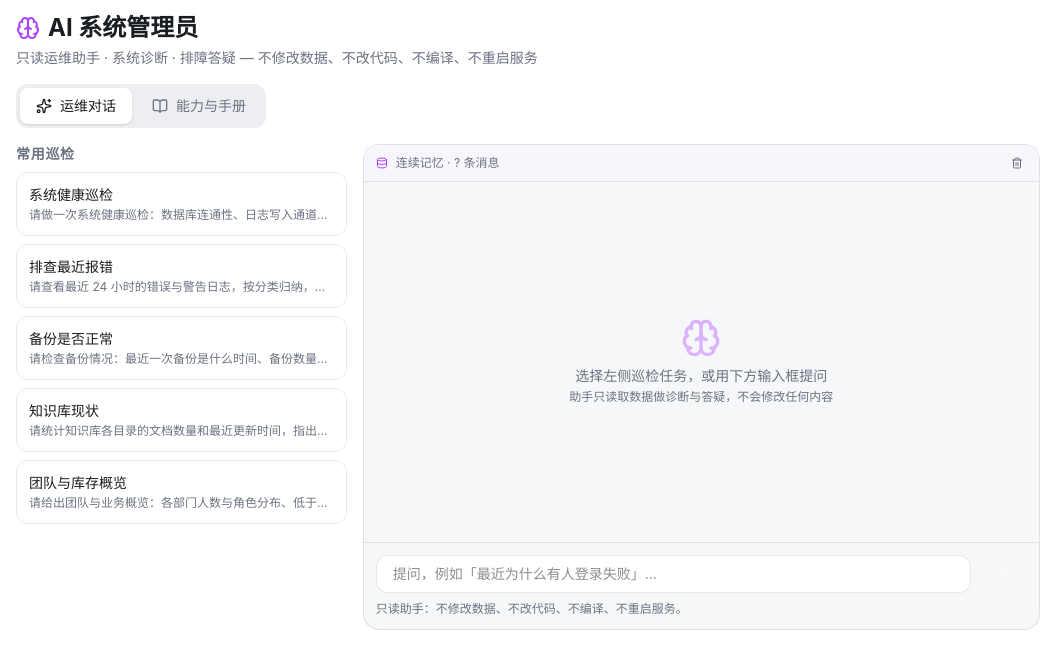
Test: AI 管理员页面流式渲染 › 网络超时给出中文提示
Click the text "备份是否正常".
click(71, 338)  # box [29,330,113,347]
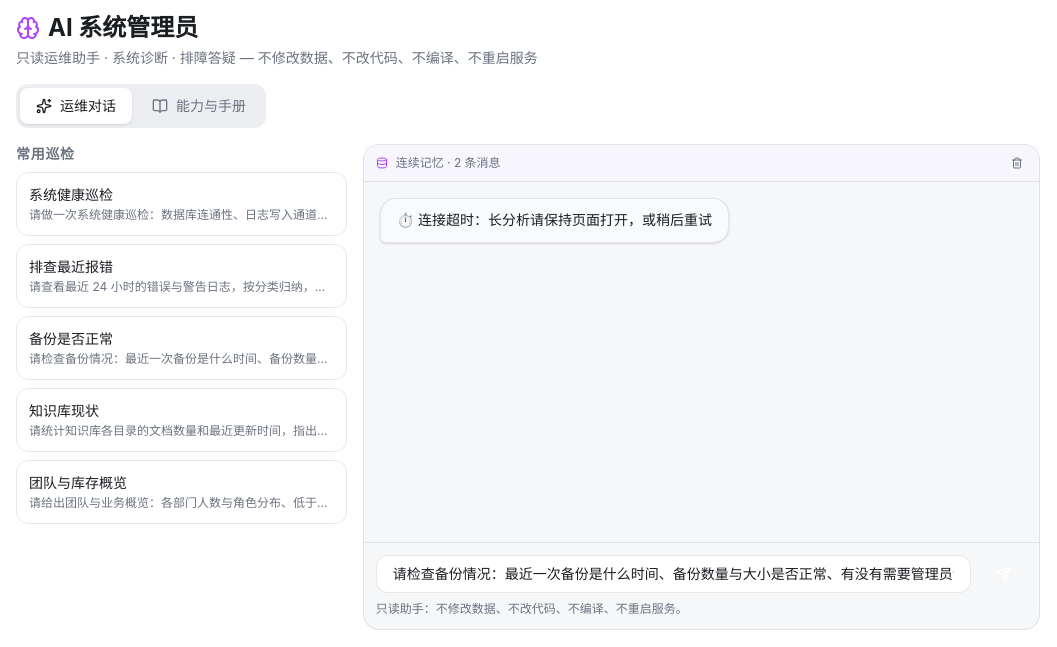
Expected: the text "⏱️ 连接超时：长分析请保持页面打开，或稍后重试" is shown, [397,209,712,232]
